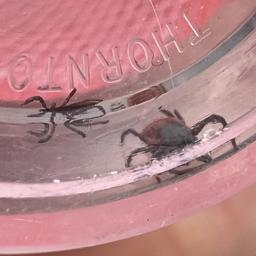Ixodes scapularis: (117, 111, 232, 185), (26, 92, 105, 140)
